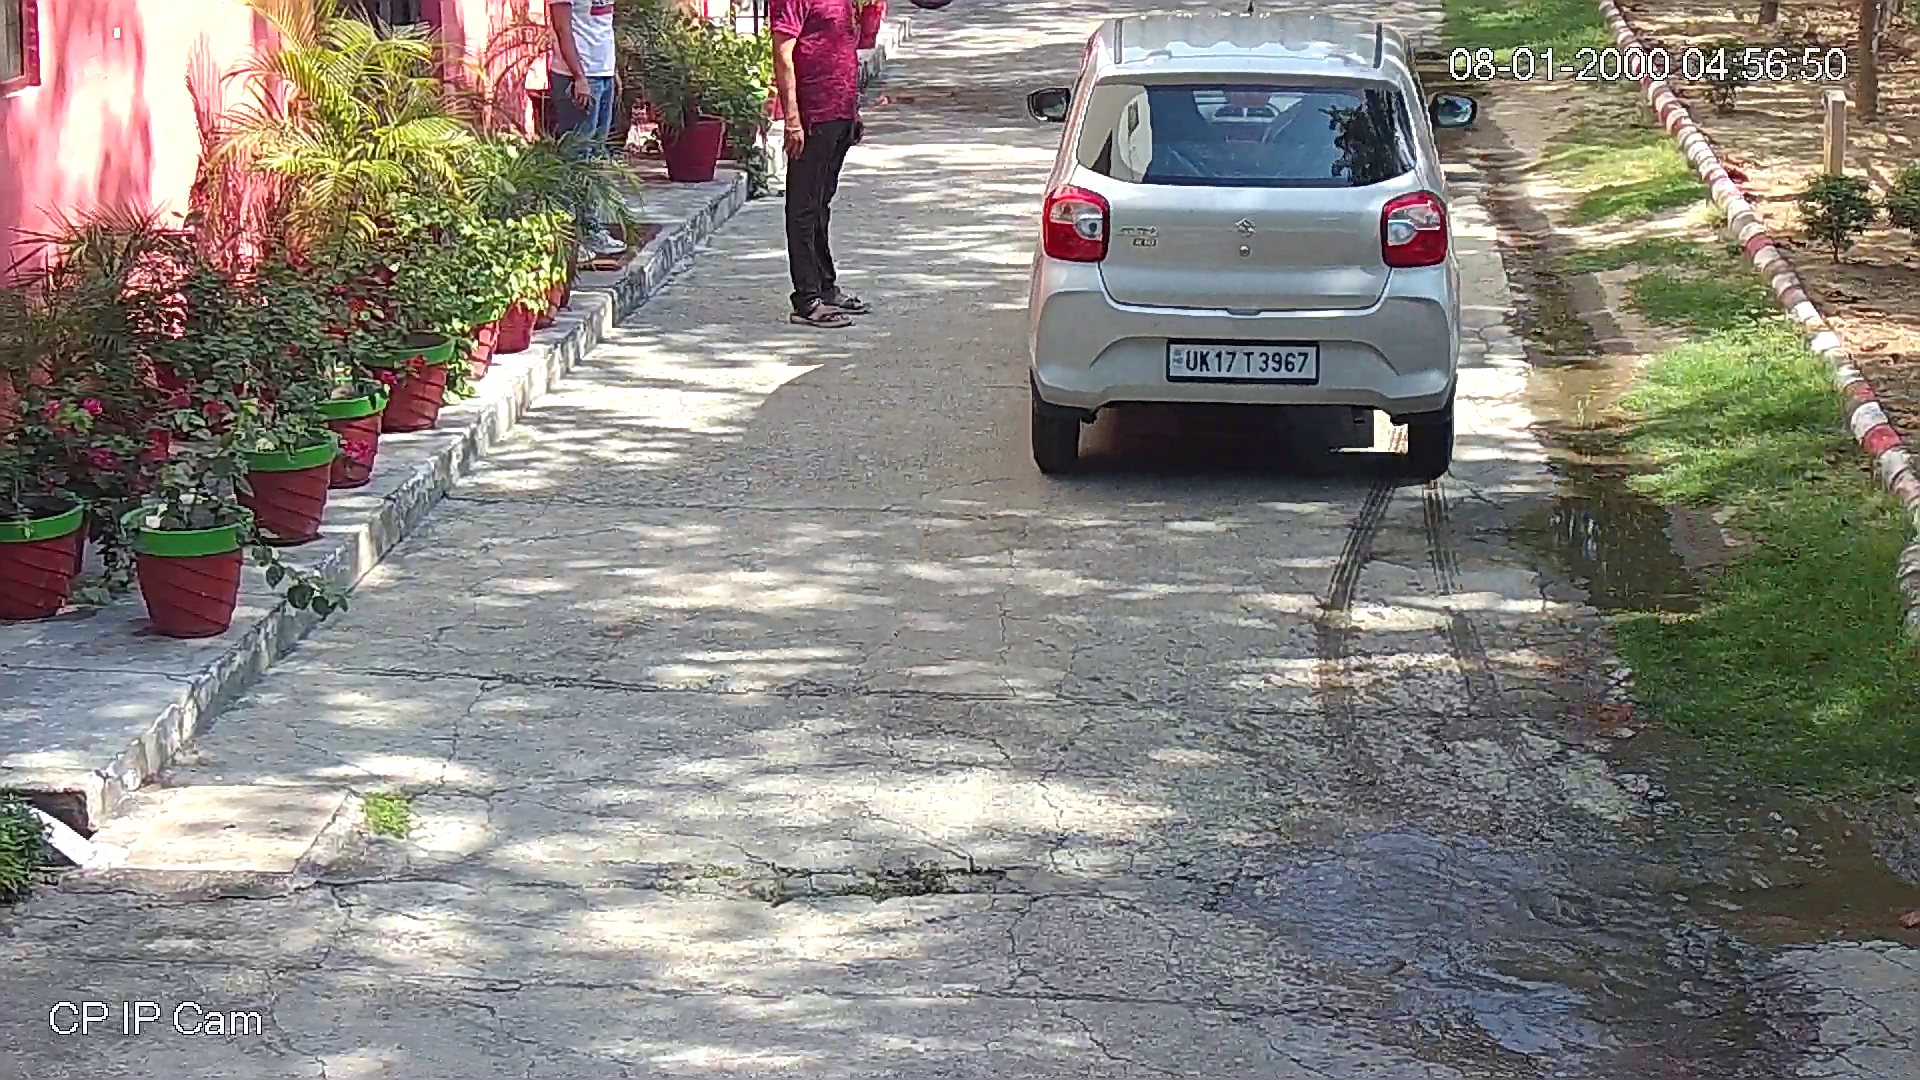plate: (1153, 337, 1325, 391)
